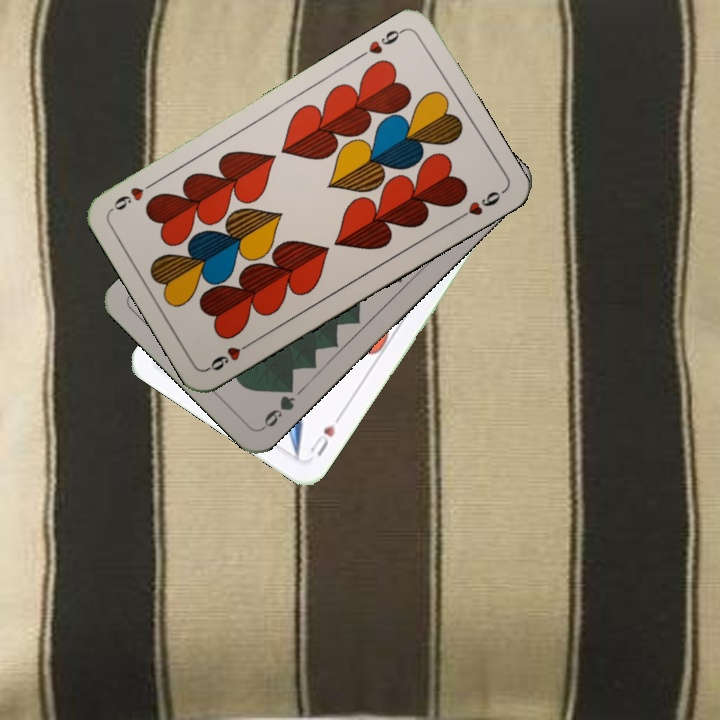G9: (258, 379, 298, 432)
H9: (204, 336, 257, 374), (354, 24, 408, 61)
HU: (305, 410, 344, 459)
